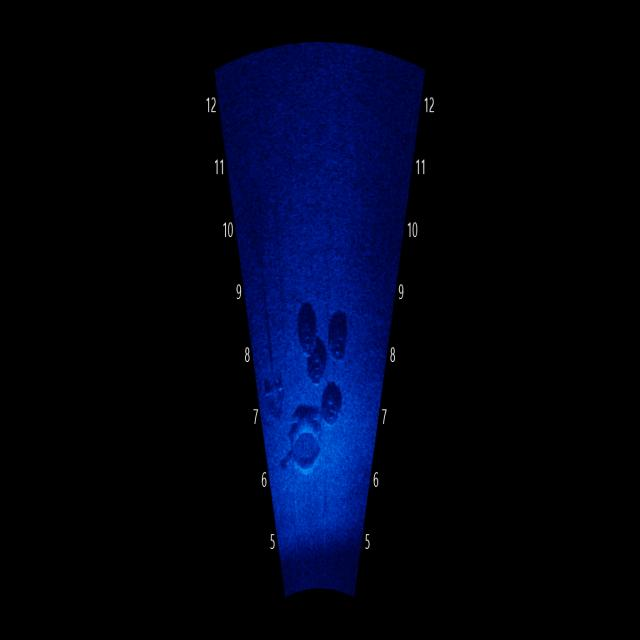circle: (286, 401, 325, 487), (305, 325, 333, 393), (323, 306, 354, 361), (315, 379, 346, 432), (293, 306, 323, 358)
